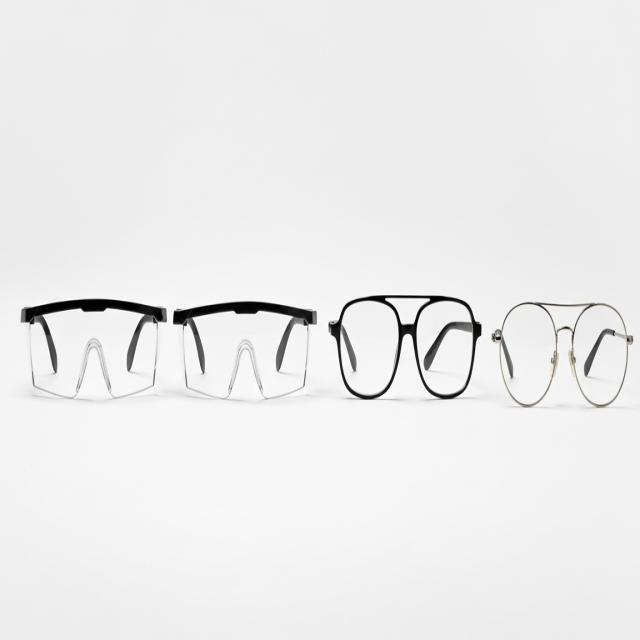oculos-epi: (20, 298, 166, 397), (173, 302, 316, 398)
sem_oculos: (329, 296, 481, 398), (492, 302, 633, 406)
